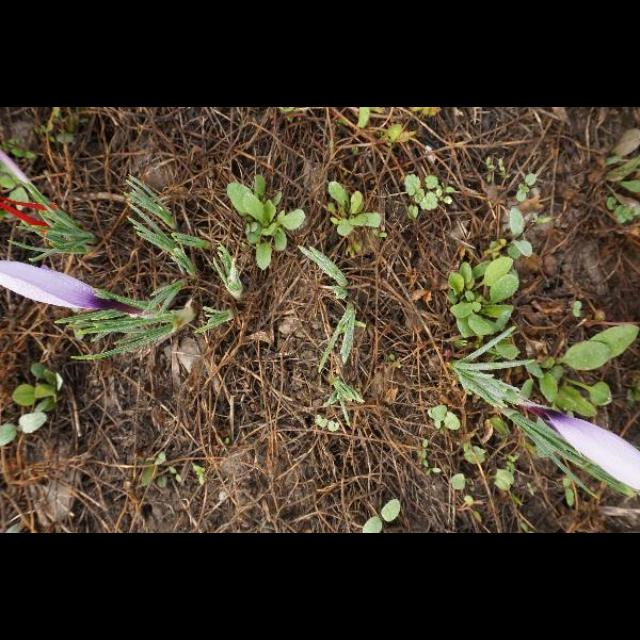flower: (530, 407, 640, 491), (1, 260, 118, 314)
overlap: (0, 150, 58, 228)
